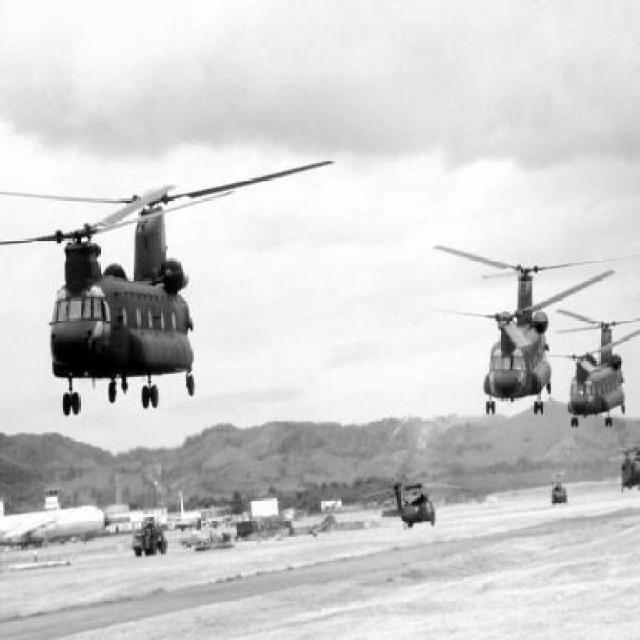helikopter: (1, 148, 344, 418), (428, 230, 570, 444), (562, 248, 636, 434), (368, 471, 476, 546), (606, 442, 640, 498), (543, 465, 574, 510)
